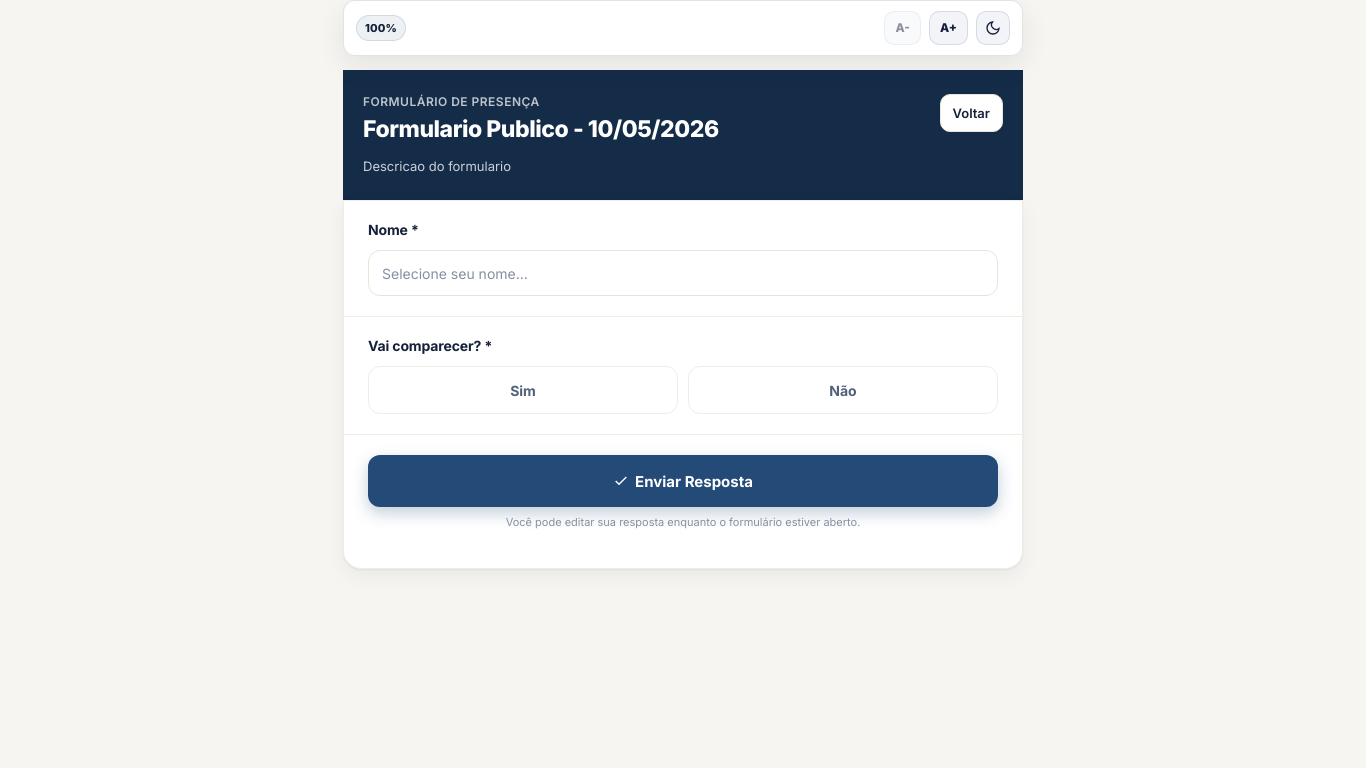
PublicFormScreen › bloqueia envio quando campos obrigatorios nao foram preenchidos
Select "Maria" in the dropdown at {"x": 683, "y": 273}, box [368, 250, 998, 296]
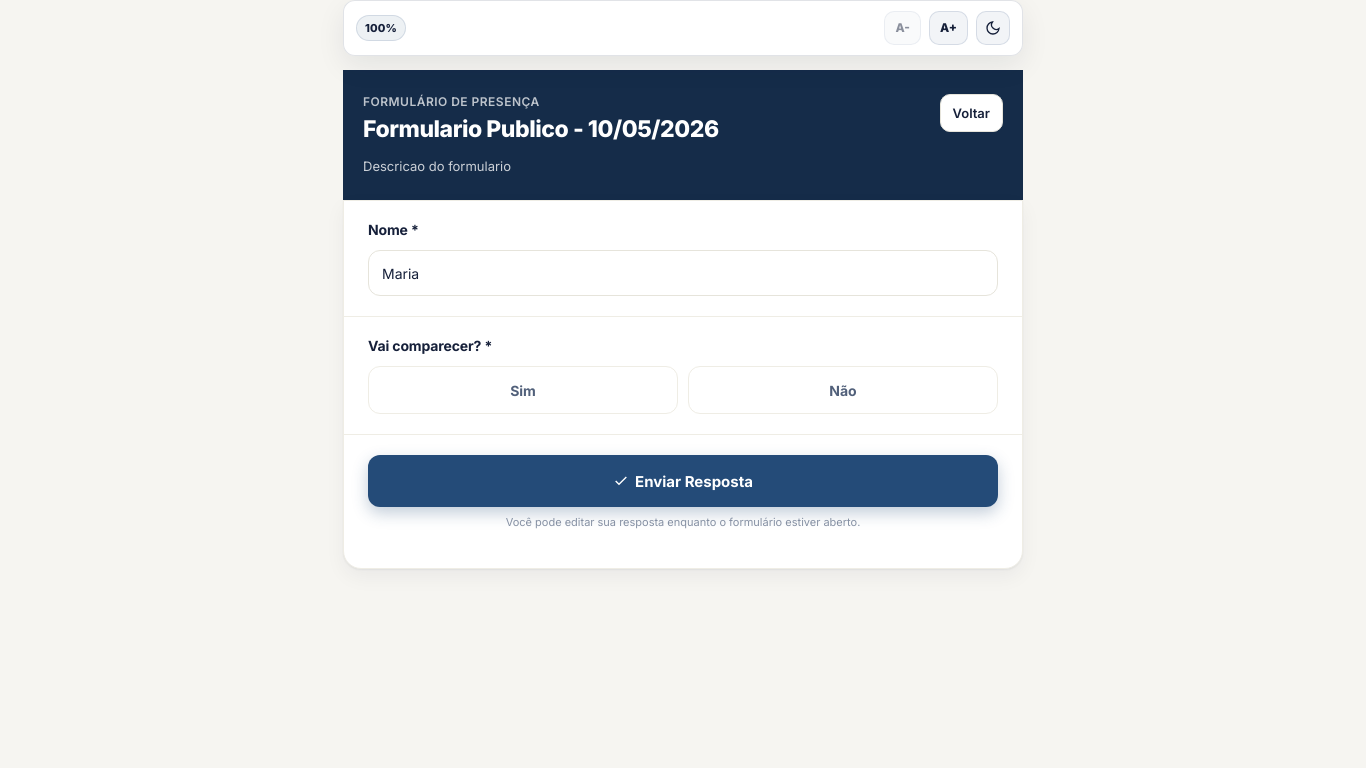
Click the button "Enviar Resposta".
click(683, 481)  # box [368, 455, 998, 507]
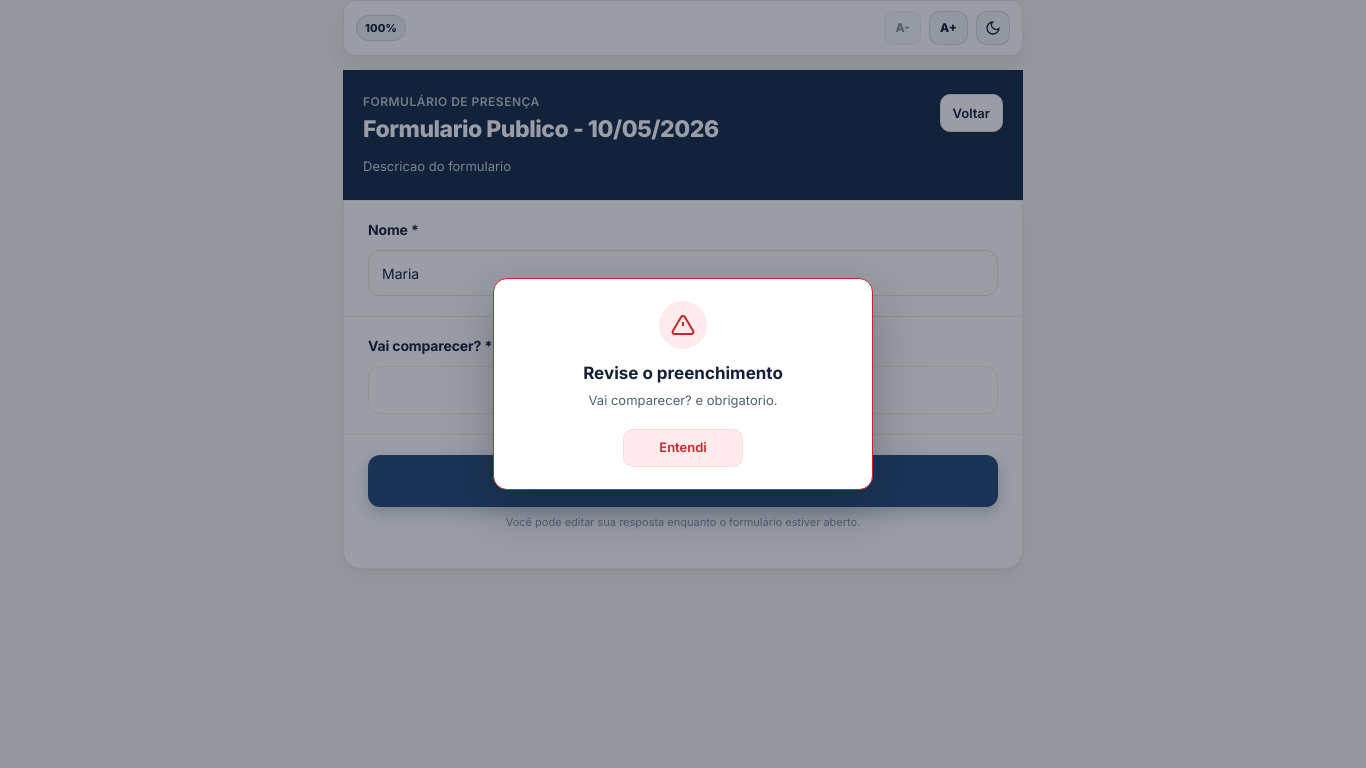
Expected: the dialog "Revise o preenchimento" is shown
Expected: the text "Vai comparecer? e obrigatorio." is shown, [588, 392, 777, 408]
Click the button "Entendi".
click(683, 448)  # box [623, 429, 743, 467]
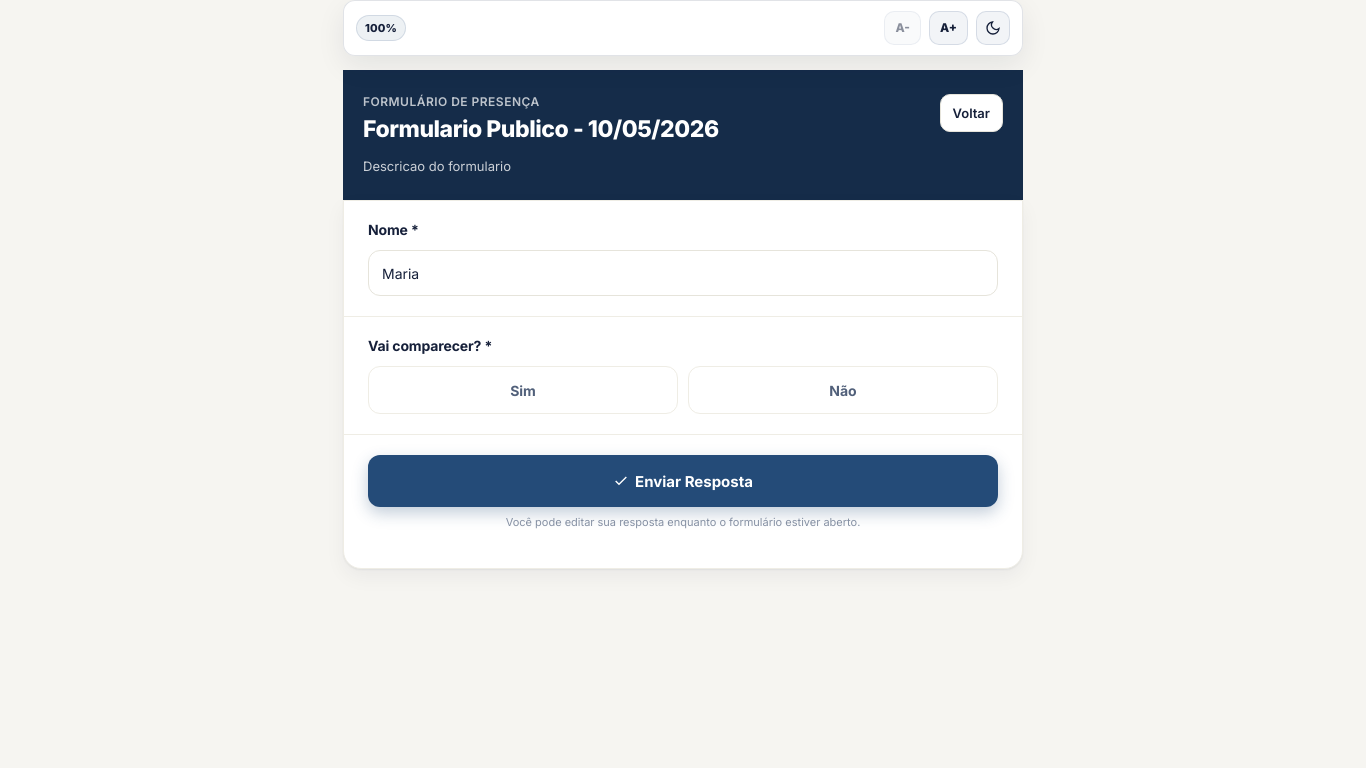
Expected: the heading "Revise o preenchimento" is gone
